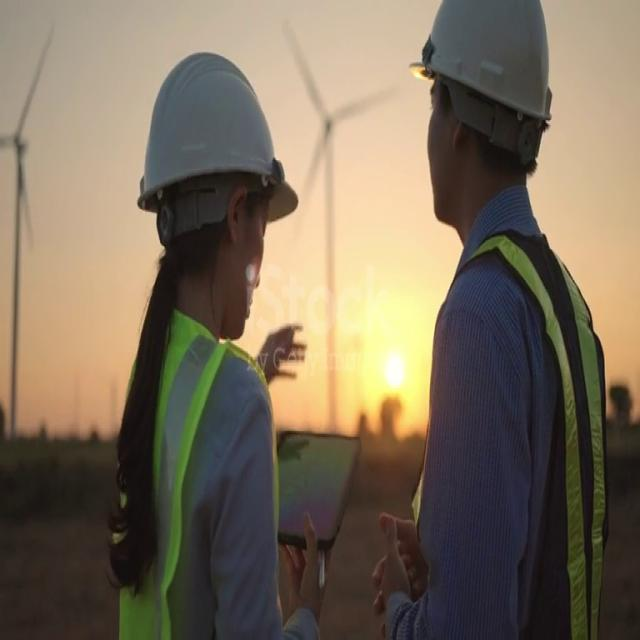capacete: (132, 47, 300, 259), (403, 0, 558, 171)
